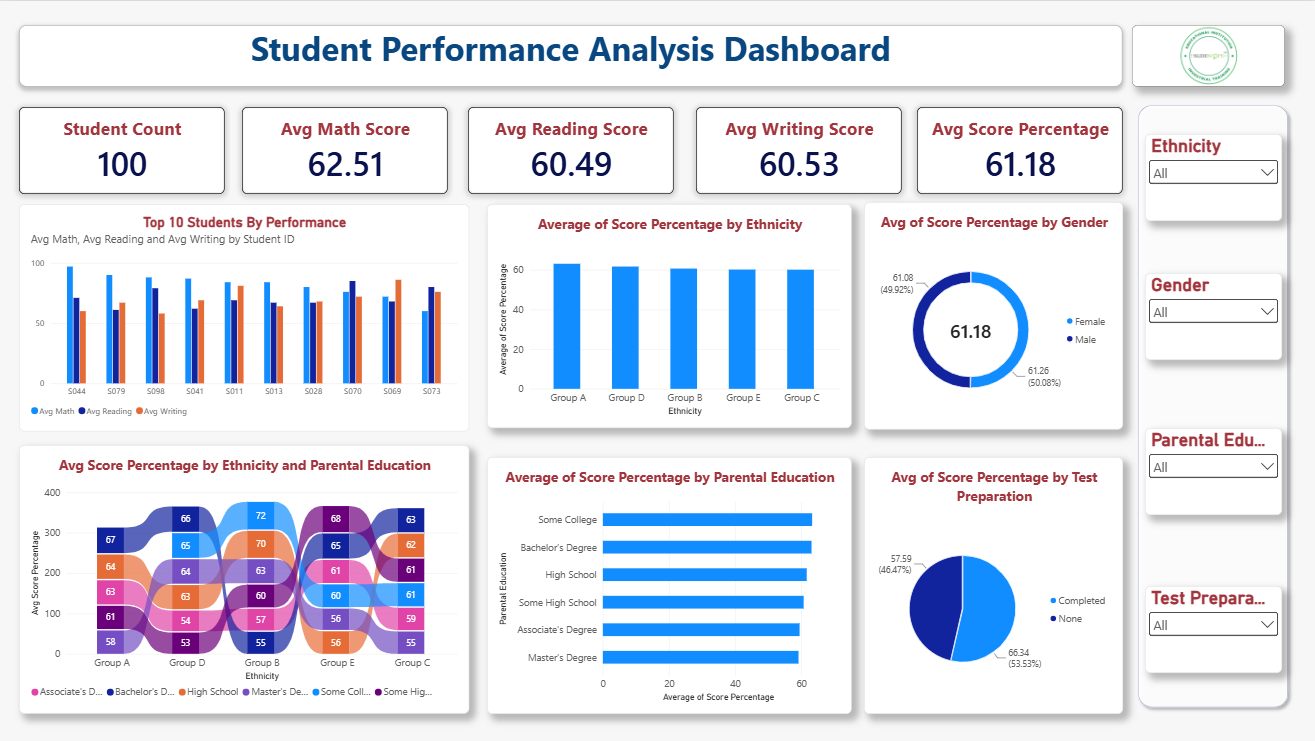

What the dashboard file says about the page in this screenshot:
{"tool":"powerbi","page":{"name":"Page 1","canvas":[1920,1080],"ordinal":0},"visuals":[{"type":"shape","box":[1651.7,143.3,236.7,896.7],"z":0},{"type":"textbox","box":[28.3,35,1610,90],"z":1000},{"type":"cardVisual","fields":{"Data":["Count(Sheet1.Student ID)"]},"box":[28.3,155,300,126.7],"z":2000},{"type":"cardVisual","fields":{"Data":["Avg(Sheet1.Math Score)"]},"box":[353.3,155,300,126.7],"z":3000},{"type":"cardVisual","fields":{"Data":["Avg(Sheet1.Writing Score)"]},"box":[1015,155,300,126.7],"z":4000},{"type":"cardVisual","fields":{"Data":["Avg(Sheet1.Reading Score)"]},"box":[683.3,155,300,126.7],"z":5000},{"type":"cardVisual","fields":{"Data":["Avg(Sheet1.Score Percentage)"]},"box":[1338.3,155,300,126.7],"z":6000},{"type":"slicer","title":"Ethnicity","fields":{"Values":["Sheet1.Ethnicity"]},"box":[1670,193.3,200,126.7],"z":7000},{"type":"slicer","title":"Ethnicity","fields":{"Values":["Sheet1.Gender"]},"box":[1670,396.7,200,126.7],"z":8000},{"type":"slicer","title":"Ethnicity","fields":{"Values":["Sheet1.Parental Education"]},"box":[1670,623.3,200,126.7],"z":9000},{"type":"clusteredColumnChart","fields":{"Category":["Sheet1.Ethnicity"],"Y":["Avg(Sheet1.Score Percentage)"]},"box":[710,296.7,531.7,326.7],"z":10000},{"type":"donutChart","fields":{"Category":["Sheet1.Gender"],"Y":["Avg(Sheet1.Score Percentage)"]},"box":[1260,293.3,378.3,331.7],"z":11000},{"type":"clusteredBarChart","fields":{"Category":["Sheet1.Parental Education"],"Y":["Avg(Sheet1.Score Percentage)"]},"box":[710,665,531.7,375],"z":12000},{"type":"pieChart","fields":{"Category":["Sheet1.Test Preparation"],"Y":["Avg(Sheet1.Score Percentage)"]},"box":[1260,665,378.3,375],"z":13000},{"type":"ribbonChart","fields":{"Category":["Sheet1.Ethnicity"],"Series":["Sheet1.Parental Education"],"Y":["Avg(Sheet1.Score Percentage)"]},"box":[28.3,648.3,656.7,391.7],"z":14000},{"type":"slicer","title":"Ethnicity","fields":{"Values":["Sheet1.Test Preparation"]},"box":[1670,853.3,200,126.7],"z":15000},{"type":"clusteredColumnChart","title":"Top 10 Students By Performance","fields":{"Category":["Sheet1.Student ID"],"Y":["Avg(Sheet1.Math Score)","Avg(Sheet1.Reading Score)","Avg(Sheet1.Writing Score)"]},"box":[28.3,296.7,656.7,331.7],"z":16000},{"type":"image","box":[1651.7,35,223.3,90],"z":17000}]}

Visuals, with their boxes in screenshot pixels (x1, y1, x2, y2), scaled from the page's 1920x1080 canvas onto the 1315x741 screenshot:
shape: [left=1131, top=98, right=1293, bottom=714]
textbox: [left=19, top=24, right=1122, bottom=86]
cardVisual - Count(Sheet1.Student ID): [left=19, top=106, right=225, bottom=193]
cardVisual - Avg(Sheet1.Math Score): [left=242, top=106, right=447, bottom=193]
cardVisual - Avg(Sheet1.Writing Score): [left=695, top=106, right=901, bottom=193]
cardVisual - Avg(Sheet1.Reading Score): [left=468, top=106, right=673, bottom=193]
cardVisual - Avg(Sheet1.Score Percentage): [left=917, top=106, right=1122, bottom=193]
"Ethnicity" slicer: [left=1144, top=133, right=1281, bottom=220]
"Ethnicity" slicer: [left=1144, top=272, right=1281, bottom=359]
"Ethnicity" slicer: [left=1144, top=428, right=1281, bottom=515]
clusteredColumnChart - Sheet1.Ethnicity x Avg(Sheet1.Score Percentage): [left=486, top=204, right=850, bottom=428]
donutChart - Sheet1.Gender x Avg(Sheet1.Score Percentage): [left=863, top=201, right=1122, bottom=429]
clusteredBarChart - Sheet1.Parental Education x Avg(Sheet1.Score Percentage): [left=486, top=456, right=850, bottom=714]
pieChart - Sheet1.Test Preparation x Avg(Sheet1.Score Percentage): [left=863, top=456, right=1122, bottom=714]
ribbonChart - Sheet1.Ethnicity x Sheet1.Parental Education: [left=19, top=445, right=469, bottom=714]
"Ethnicity" slicer: [left=1144, top=585, right=1281, bottom=672]
"Top 10 Students By Performance" clusteredColumnChart: [left=19, top=204, right=469, bottom=431]
image: [left=1131, top=24, right=1284, bottom=86]
